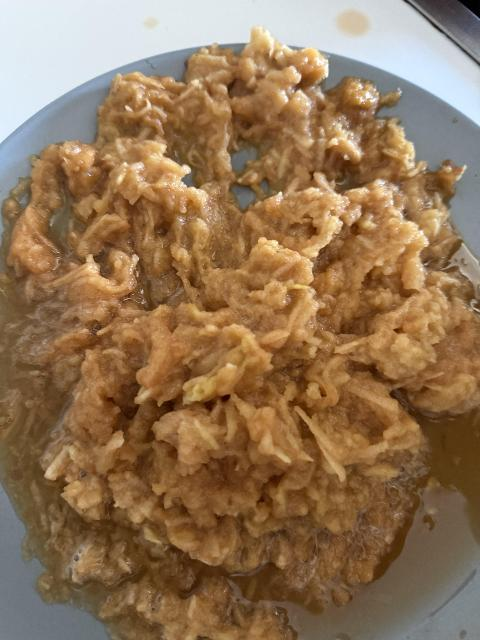Organik: (0, 27, 480, 640)
